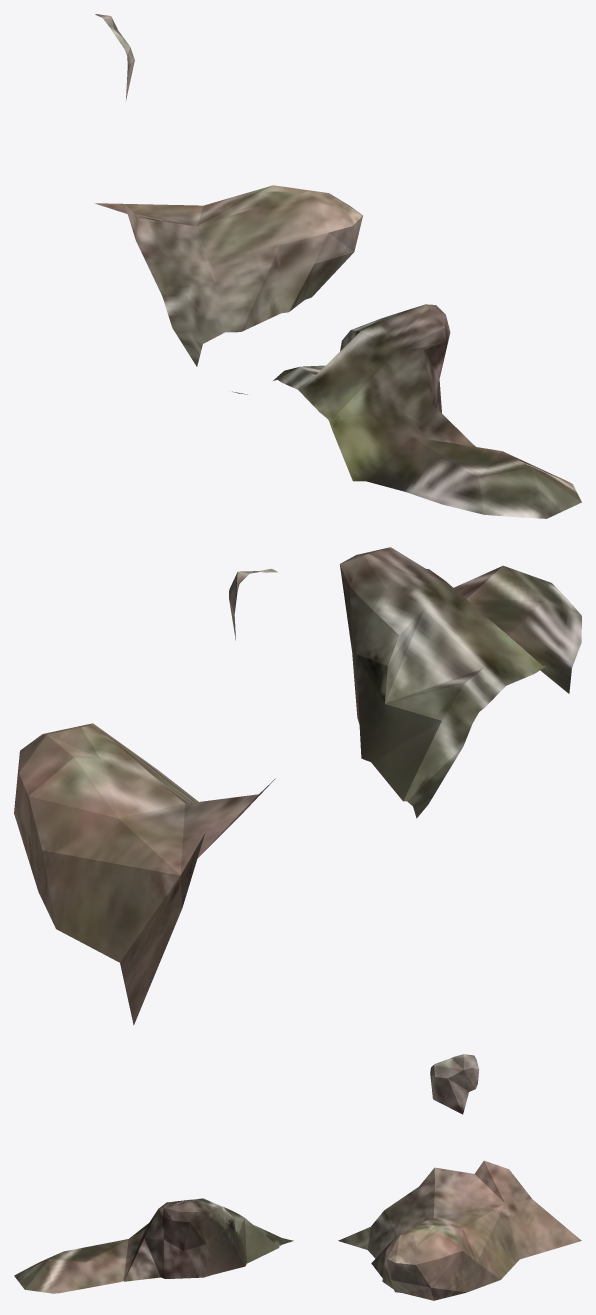
3 renders of one model, top to bottom at view 1: azimuth 30°, elevation 25°; view 2: azimuth 150°, elevation 25°; view 3: azimuth 270°, elevation 25°, orthographic. The views are drawn at different scales.
Size of the model in its own units: 0.6511 by 0.8244 by 2.27.
Materials: 1 (1 with a texture image).
